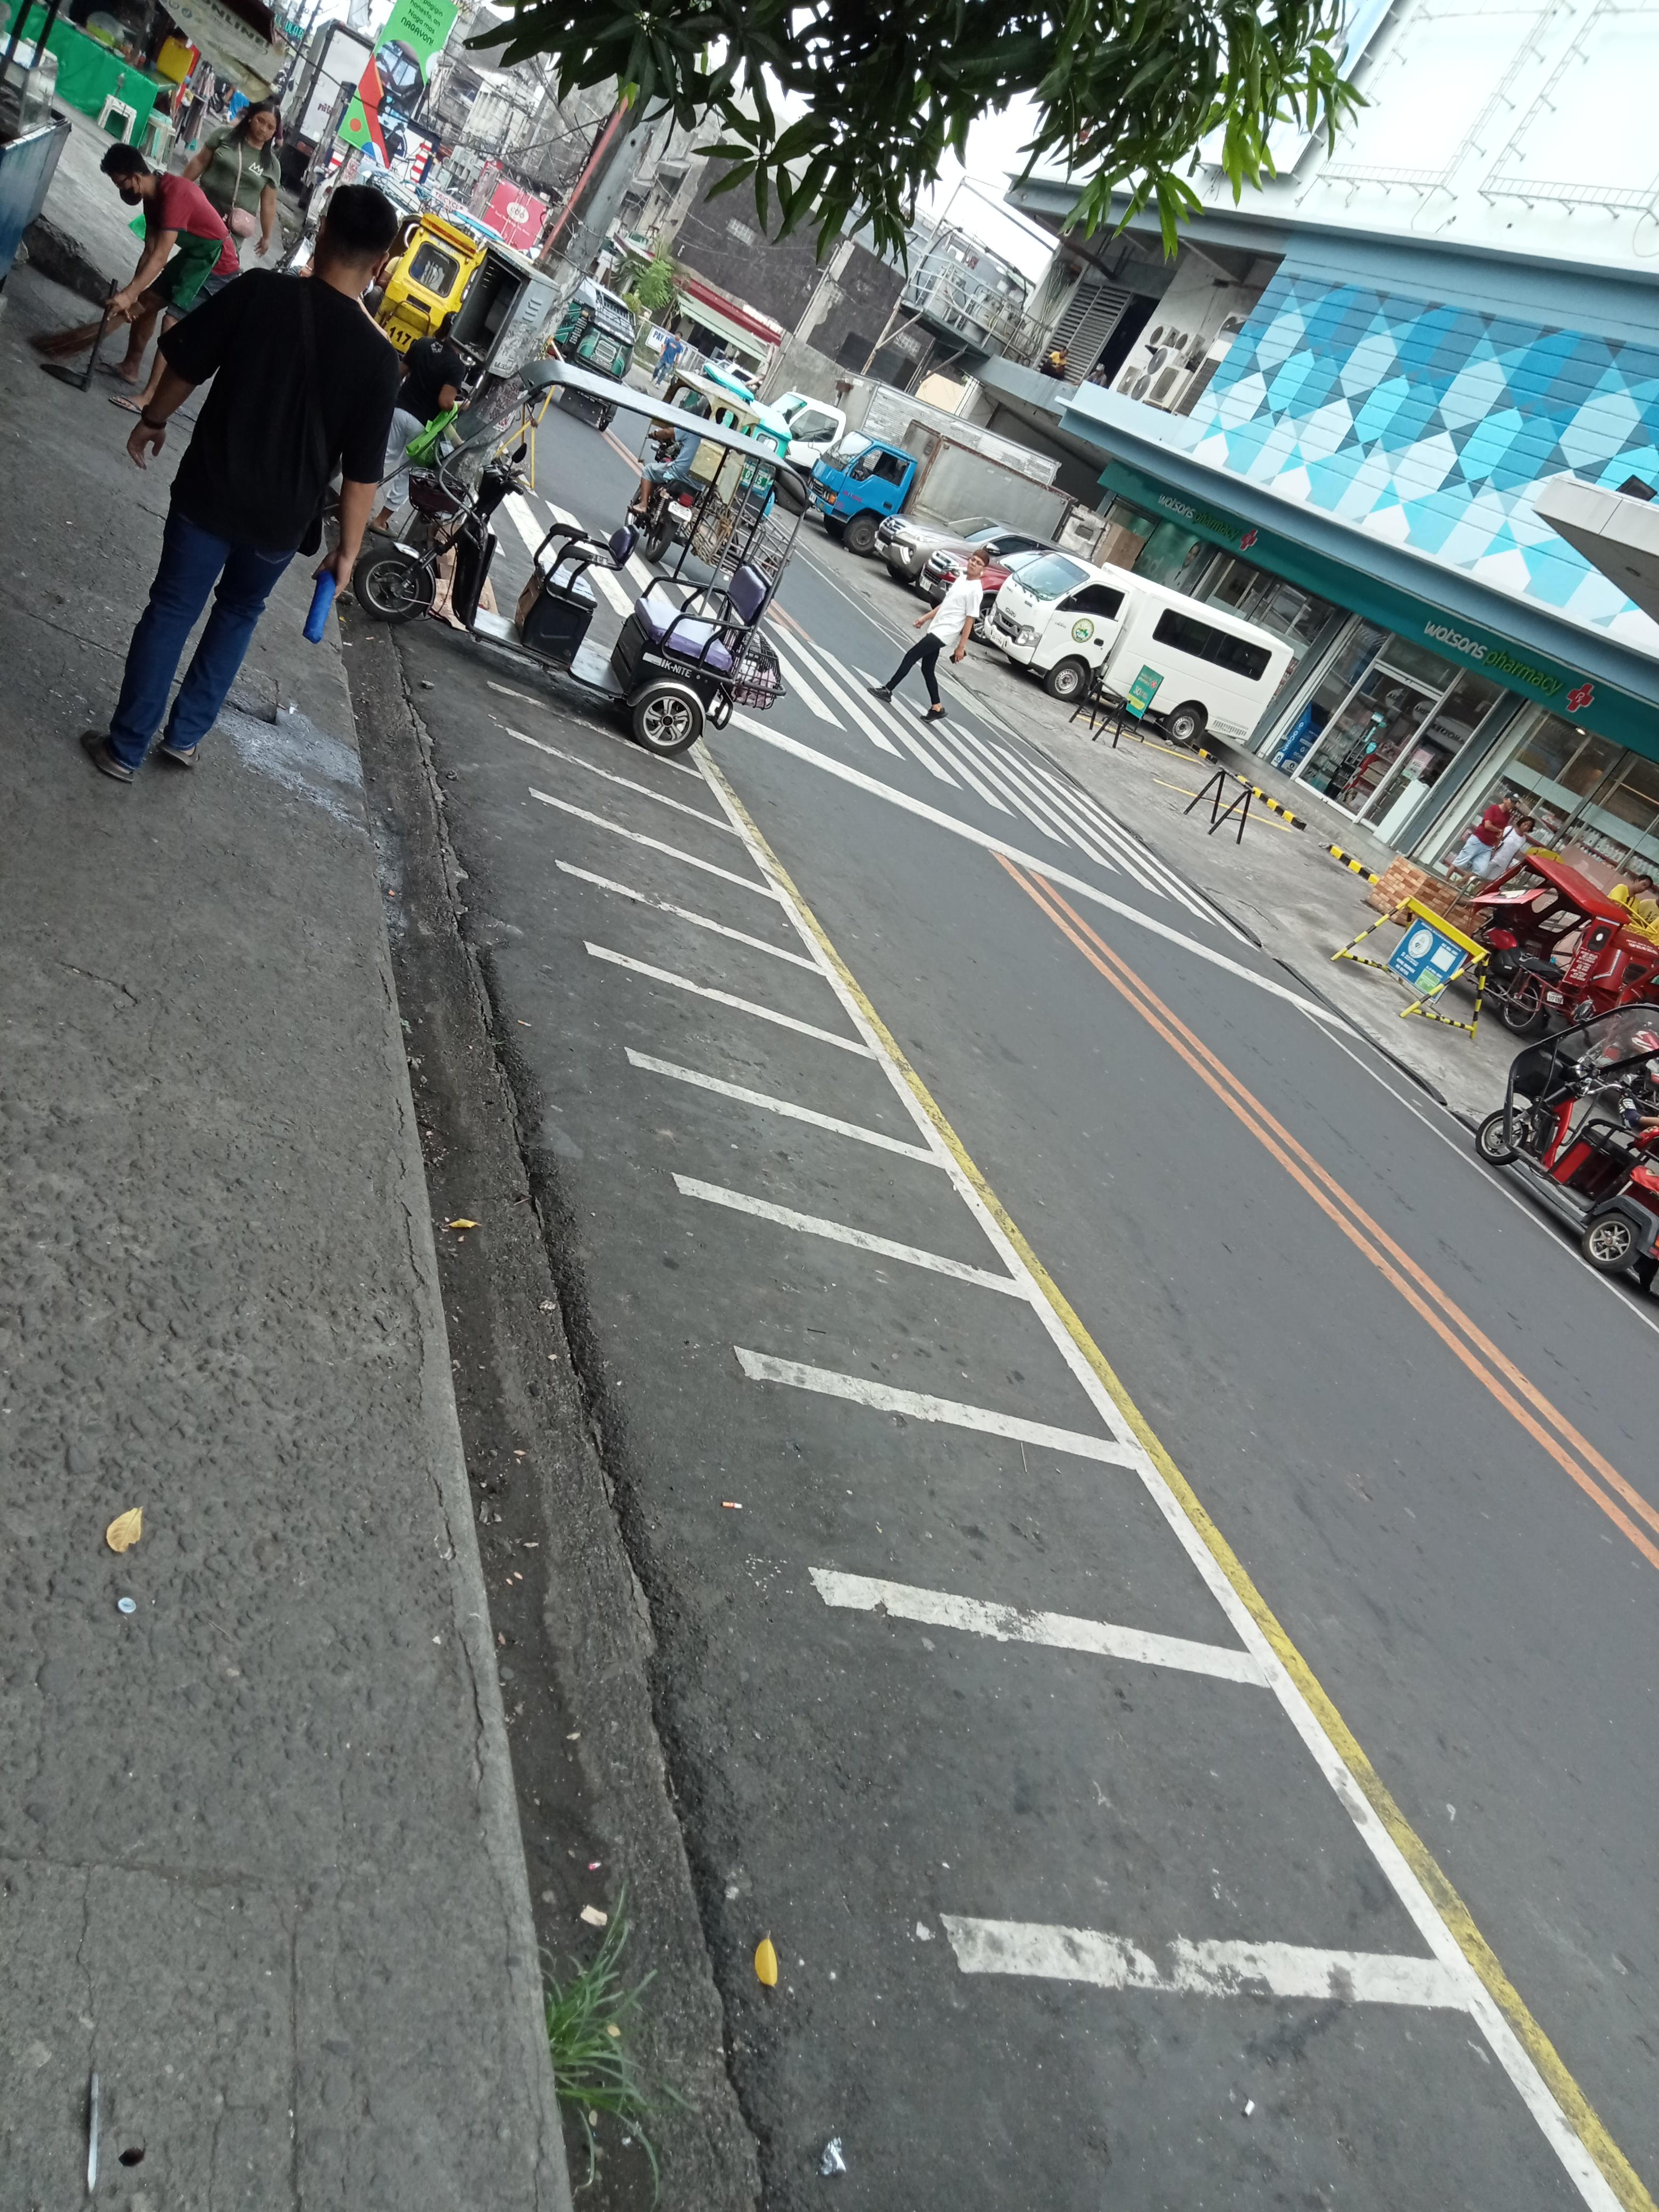vacant: (821, 1578, 1499, 2010), (735, 1348, 1298, 1684), (669, 1170, 1164, 1479), (626, 1049, 1049, 1308), (582, 939, 958, 1172), (554, 860, 892, 1066), (532, 787, 845, 988), (504, 725, 800, 909), (486, 678, 756, 845), (1066, 711, 1335, 848)
